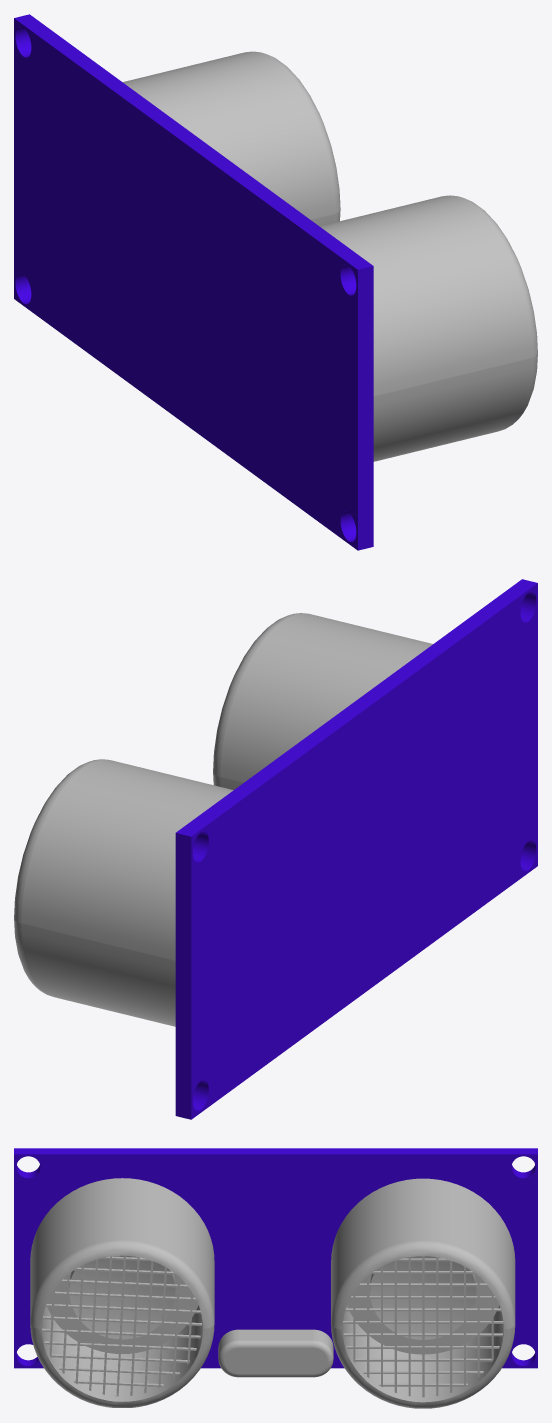
File: hcsr04.dae
3 renders of one model, top to bottom at view 1: azimuth 30°, elevation 25°; view 2: azimuth 150°, elevation 25°; view 3: azimuth 270°, elevation 25°, orthographic. The views are drawn at different scales.
Parts seen in each view (by area): view 1: HC-SR04_45, HC-SR04_52, HC-SR04_51; view 2: HC-SR04_45, HC-SR04_51, HC-SR04_52; view 3: HC-SR04_45, HC-SR04_52, HC-SR04_51, HC-SR04_87, HC-SR04_88, HC-SR04_50.
Part boxes in pixels (x1,y1,x2,y2): HC-SR04_45: [14, 14, 373, 550]; HC-SR04_52: [320, 195, 537, 461]; HC-SR04_51: [123, 51, 340, 226]; HC-SR04_45: [175, 579, 537, 1119]; HC-SR04_51: [14, 759, 233, 1026]; HC-SR04_52: [213, 613, 432, 789]; HC-SR04_45: [14, 1148, 537, 1368]; HC-SR04_52: [30, 1178, 214, 1407]; HC-SR04_51: [331, 1178, 515, 1408]; HC-SR04_87: [42, 1255, 201, 1396]; HC-SR04_88: [343, 1256, 503, 1397]; HC-SR04_50: [218, 1329, 333, 1377].
Bounding box in the file's own units: 0.015 × 0.0455 × 0.0205.
